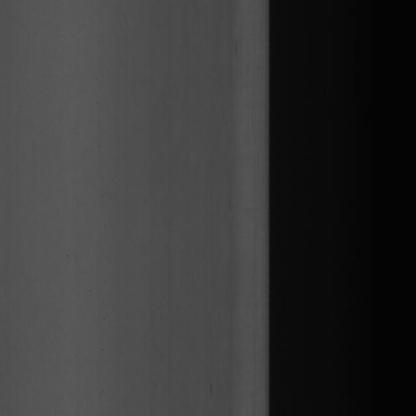inclusion: (64, 249, 71, 263)
